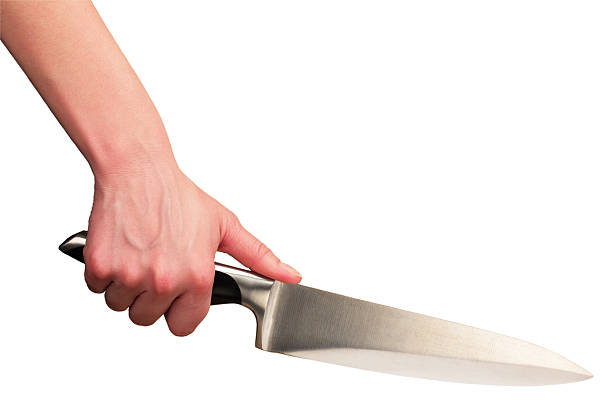knife: (58, 231, 594, 387)
